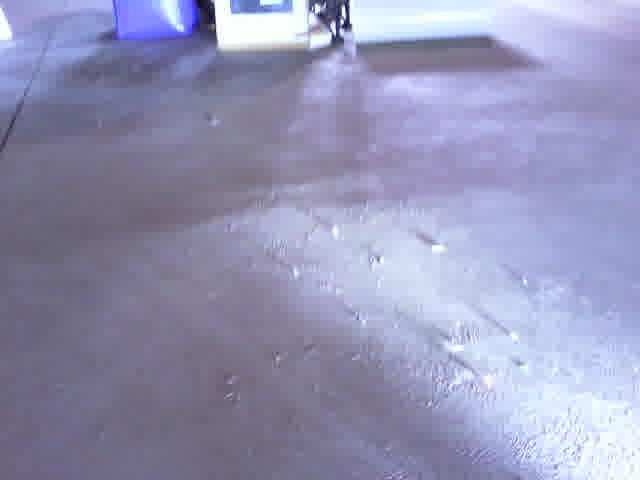coral: (345, 0, 503, 54)
